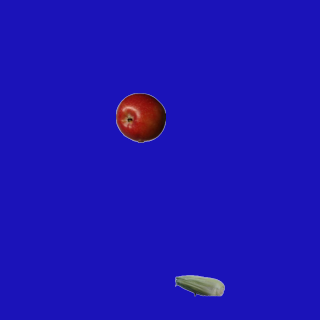Apple Braeburn: (115, 92, 165, 142)
Corn Husk: (174, 260, 224, 310)
